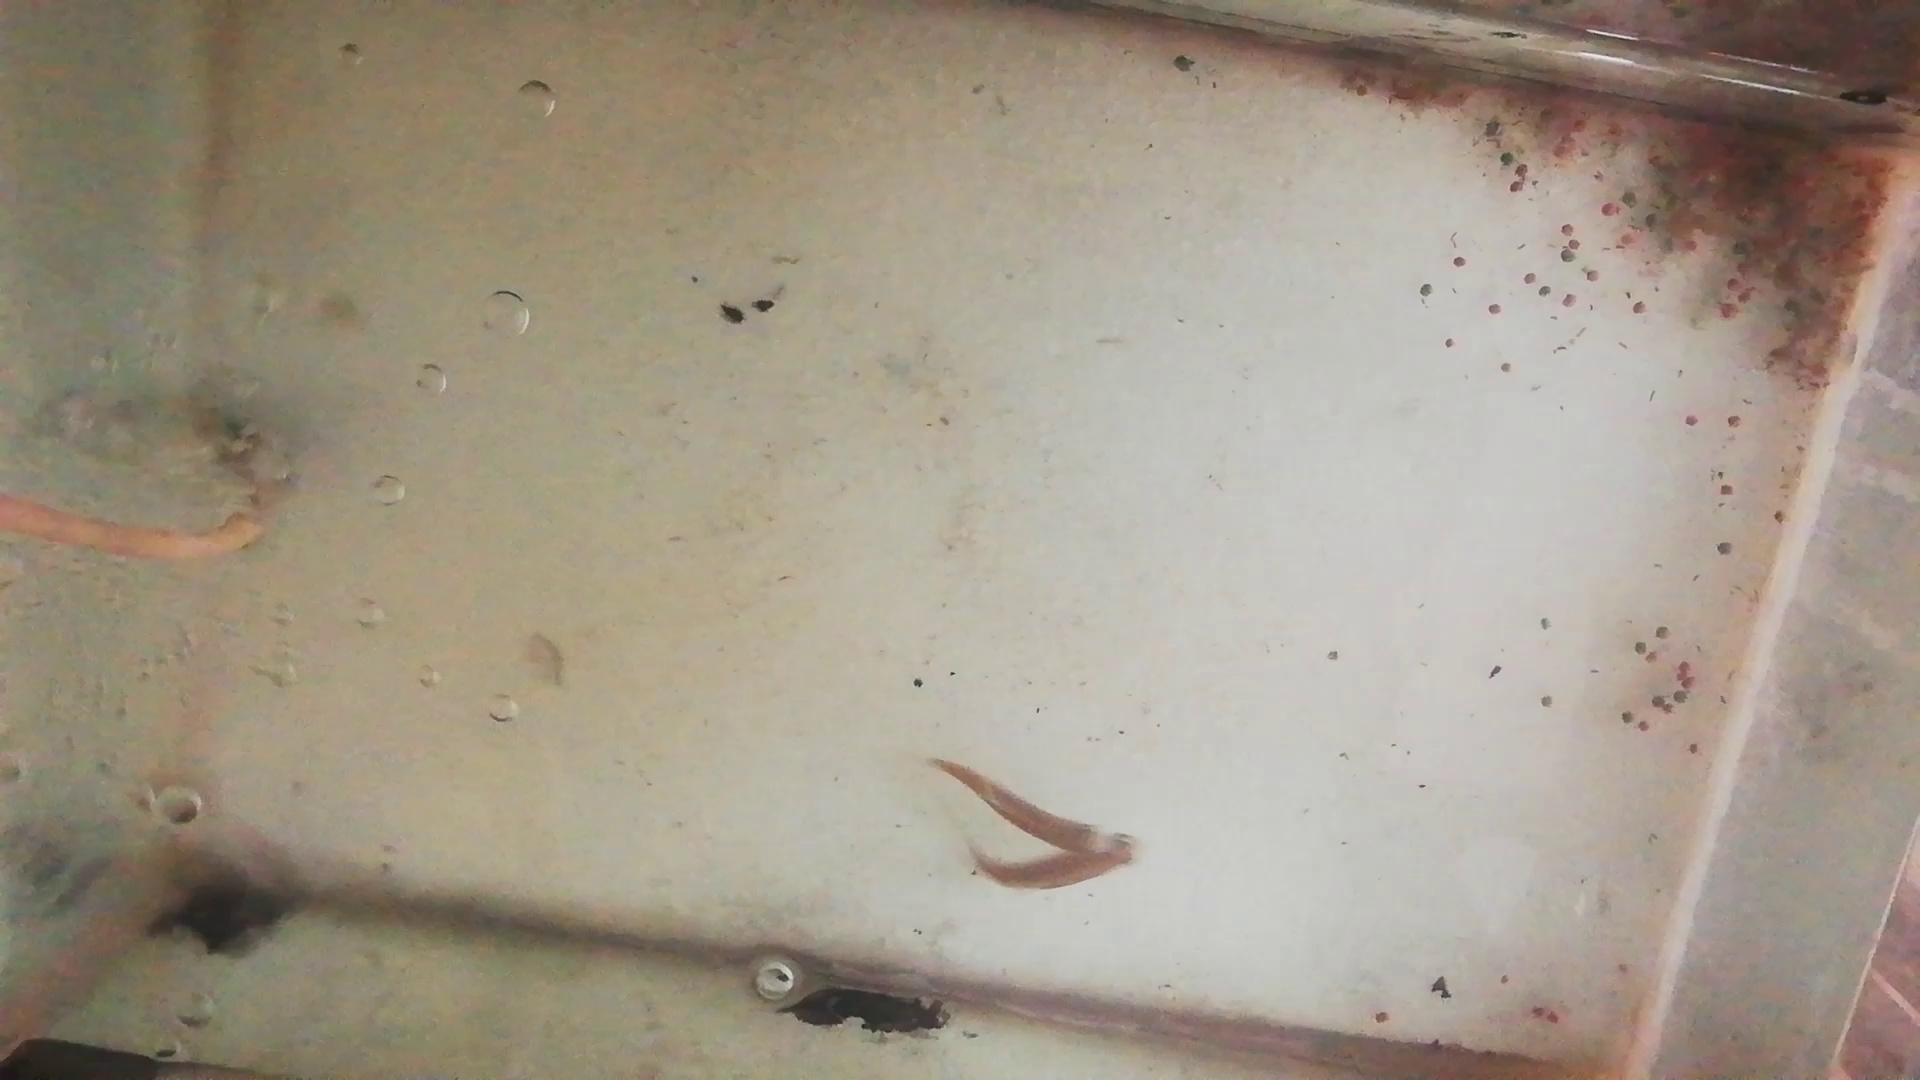fish: (927, 756, 1110, 853), (972, 833, 1143, 894)
